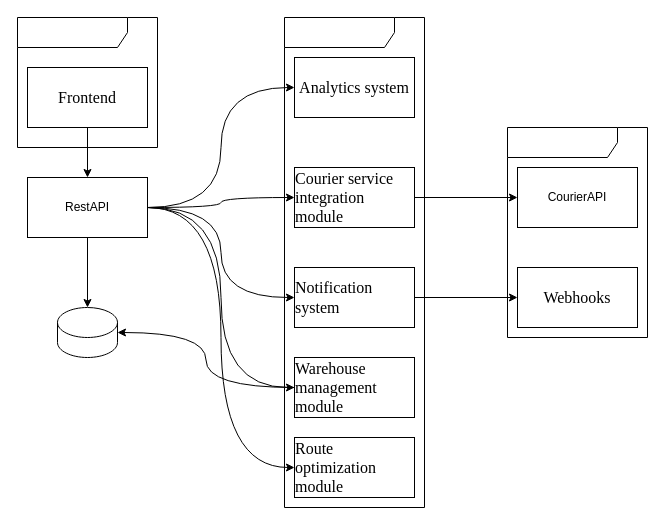
Some shapes in this 665 by 525 pixel diagram are drawn without their labels. Here are the shapes that lost their labels. From the top down, the box of each, then its label:
(16, 16, 158, 148): userInterface
(506, 126, 648, 338): ExternalAPIs
(284, 16, 424, 508): Backend
(56, 306, 118, 358): DB
